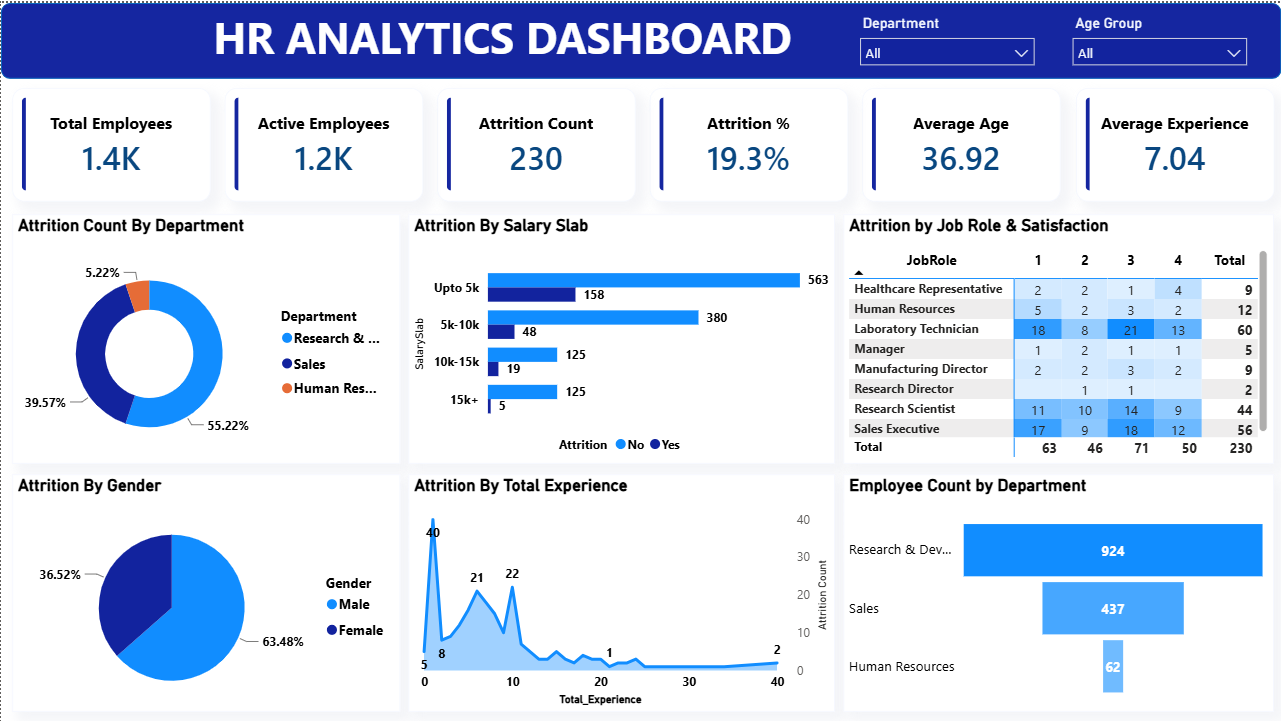

What the dashboard file says about the page in this screenshot:
{"tool":"powerbi","page":{"name":"Page 1","canvas":[1280,720],"ordinal":0},"visuals":[{"type":"shape","box":[0,0,1280.3,75.8],"z":0},{"type":"cardVisual","fields":{"Data":["HR_Analytics.Total Employees"]},"box":[11,84.4,198.7,113.7],"z":0,"group":"g1"},{"type":"textbox","box":[31.8,0,940.4,75.8],"z":1000},{"type":"cardVisual","fields":{"Data":["HR_Analytics.Average Experience"]},"box":[1074.2,84.4,198.7,113.7],"z":1000,"group":"g1"},{"type":"group","id":"g1","title":"Group 1","box":[11,84.4,1262,113.7],"z":2000},{"type":"cardVisual","fields":{"Data":["HR_Analytics.Average Age"]},"box":[861.6,84.4,198.7,113.7],"z":2000,"group":"g1"},{"type":"cardVisual","fields":{"Data":["HR_Analytics.Attrition %"]},"box":[648.9,84.4,198.7,113.7],"z":3000,"group":"g1"},{"type":"donutChart","title":"Attrition Count By Department","fields":{"Category":["HR_Analytics.Department"],"Y":["HR_Analytics.Attrition Count"]},"box":[11,211.6,387.6,249.5],"z":3000},{"type":"cardVisual","fields":{"Data":["HR_Analytics.Attrition Count"]},"box":[436.3,84.4,198.7,113.7],"z":4000,"group":"g1"},{"type":"clusteredBarChart","title":"Attrition  By Salary Slab","fields":{"Category":["HR_Analytics.SalarySlab"],"Y":["CountNonNull(HR_Analytics.EmpID)"],"Series":["HR_Analytics.Attrition"]},"box":[407.2,211.6,426.8,249.5],"z":4000},{"type":"cardVisual","fields":{"Data":["HR_Analytics.Active Employee"]},"box":[223.6,84.4,198.7,113.7],"z":5000,"group":"g1"},{"type":"pivotTable","title":"Attrition by Job Role & Satisfaction","fields":{"Rows":["HR_Analytics.JobRole"],"Columns":["HR_Analytics.JobSatisfaction"],"Values":["HR_Analytics.Attrition Count"]},"box":[842.5,211.6,430.4,249.5],"z":5000},{"type":"pieChart","title":"Attrition By Gender","fields":{"Category":["HR_Analytics.Gender"],"Y":["HR_Analytics.Attrition Count"]},"box":[11,470.8,387.6,237.2],"z":6000},{"type":"areaChart","title":"Attrition By Total Experience","fields":{"Y2":["HR_Analytics.Attrition Count"],"Category":["HR_Analytics.TotalWorkingYears"]},"box":[407.2,470.8,426.8,237.2],"z":7000},{"type":"funnel","title":"Employee Count by Department","fields":{"Category":["HR_Analytics.Department"],"Y":["CountNonNull(HR_Analytics.EmpID)"]},"box":[842.5,470.8,430.4,237.2],"z":8000},{"type":"slicer","fields":{"Values":["HR_Analytics.Department"]},"box":[848.6,6.1,194.4,63.6],"z":9000},{"type":"slicer","fields":{"Values":["HR_Analytics.AgeGroup"]},"box":[1061.4,6.1,194.4,63.6],"z":10000}]}

Visuals, with their boxes in screenshot pixels (x1, y1, x2, y2), scaled from the page's 1280x720 canvas onto the 1281x721 screenshot:
shape: x1=0 y1=0 x2=1280 y2=76
cardVisual - HR_Analytics.Total Employees: x1=11 y1=85 x2=210 y2=198
textbox: x1=32 y1=0 x2=973 y2=76
cardVisual - HR_Analytics.Average Experience: x1=1075 y1=85 x2=1274 y2=198
"Group 1" group: x1=11 y1=85 x2=1274 y2=198
cardVisual - HR_Analytics.Average Age: x1=862 y1=85 x2=1061 y2=198
cardVisual - HR_Analytics.Attrition %: x1=649 y1=85 x2=848 y2=198
"Attrition Count By Department" donutChart: x1=11 y1=212 x2=399 y2=462
cardVisual - HR_Analytics.Attrition Count: x1=437 y1=85 x2=635 y2=198
"Attrition  By Salary Slab" clusteredBarChart: x1=408 y1=212 x2=835 y2=462
cardVisual - HR_Analytics.Active Employee: x1=224 y1=85 x2=423 y2=198
"Attrition by Job Role & Satisfaction" pivotTable: x1=843 y1=212 x2=1274 y2=462
"Attrition By Gender" pieChart: x1=11 y1=471 x2=399 y2=709
"Attrition By Total Experience" areaChart: x1=408 y1=471 x2=835 y2=709
"Employee Count by Department" funnel: x1=843 y1=471 x2=1274 y2=709
slicer - HR_Analytics.Department: x1=849 y1=6 x2=1044 y2=70
slicer - HR_Analytics.AgeGroup: x1=1062 y1=6 x2=1257 y2=70
